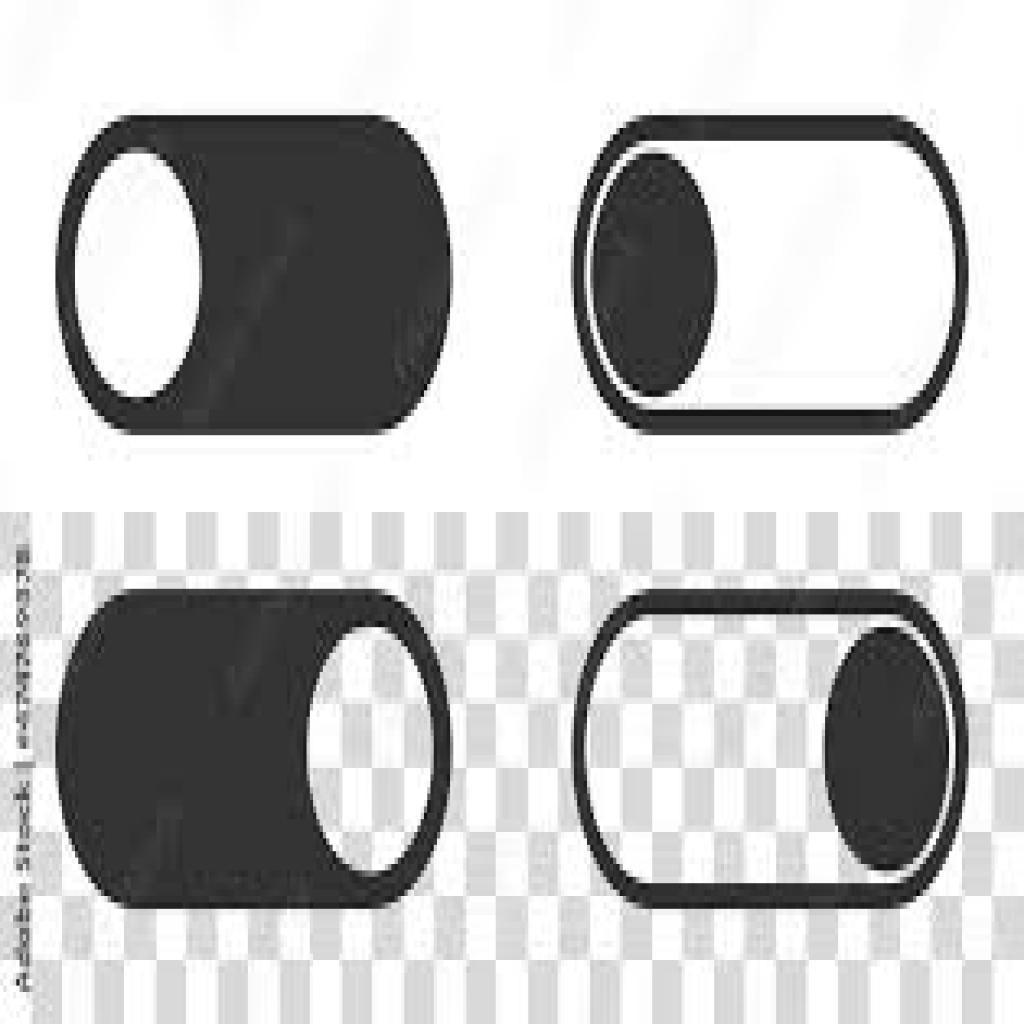switch: (49, 113, 461, 441), (568, 110, 970, 440), (56, 588, 456, 911), (571, 592, 968, 913)
